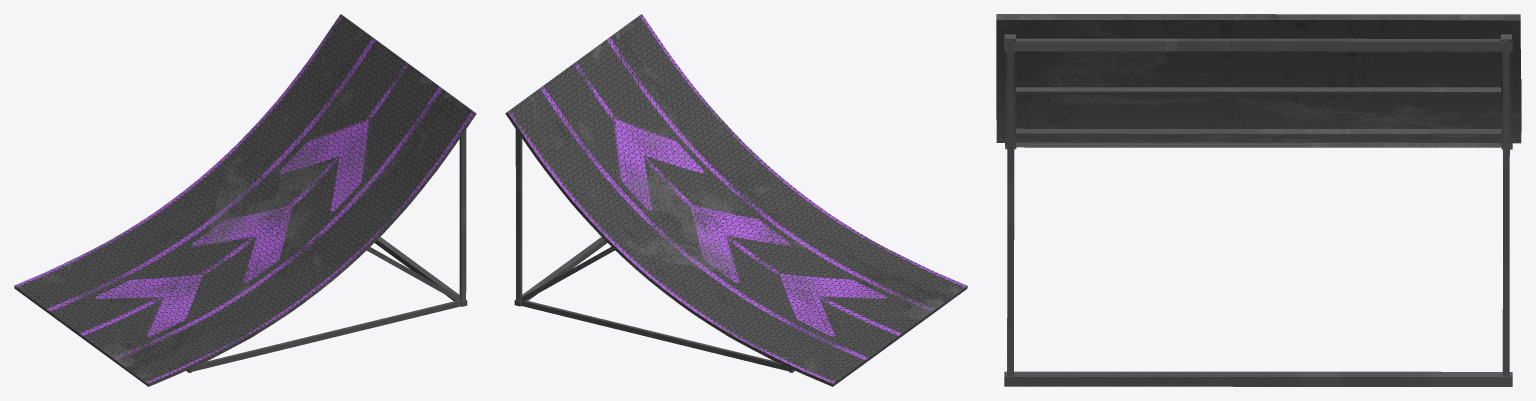
Rendered from small puple ramp jump.fbx.
3 views of the same model, side by side, from view 1: azimuth 30°, elevation 25°; view 2: azimuth 150°, elevation 25°; view 3: azimuth 270°, elevation 25° (orthographic). The views are drawn at different scales.
Visible parts, largest first — view 1: model_1.001; view 2: model_1.001; view 3: model_1.001.
Boxes of the visible parts, x1,y1,x2,y2 form: model_1.001: (14,14,476,386); model_1.001: (505,14,967,386); model_1.001: (996,14,1521,386).
Size of the model in its own units: 1107 by 629 by 785.
